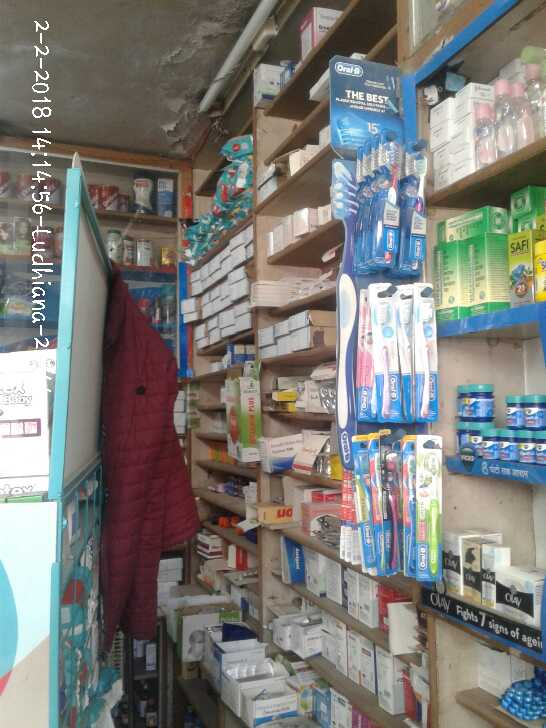beauty: (490, 569, 538, 630), (438, 524, 465, 597), (459, 535, 479, 605), (479, 536, 497, 611)
pharmacy: (353, 138, 399, 276), (345, 444, 389, 577), (399, 288, 439, 420), (407, 430, 440, 575), (367, 292, 393, 423), (402, 157, 430, 270), (453, 429, 542, 464), (451, 382, 496, 422), (502, 388, 546, 426)
